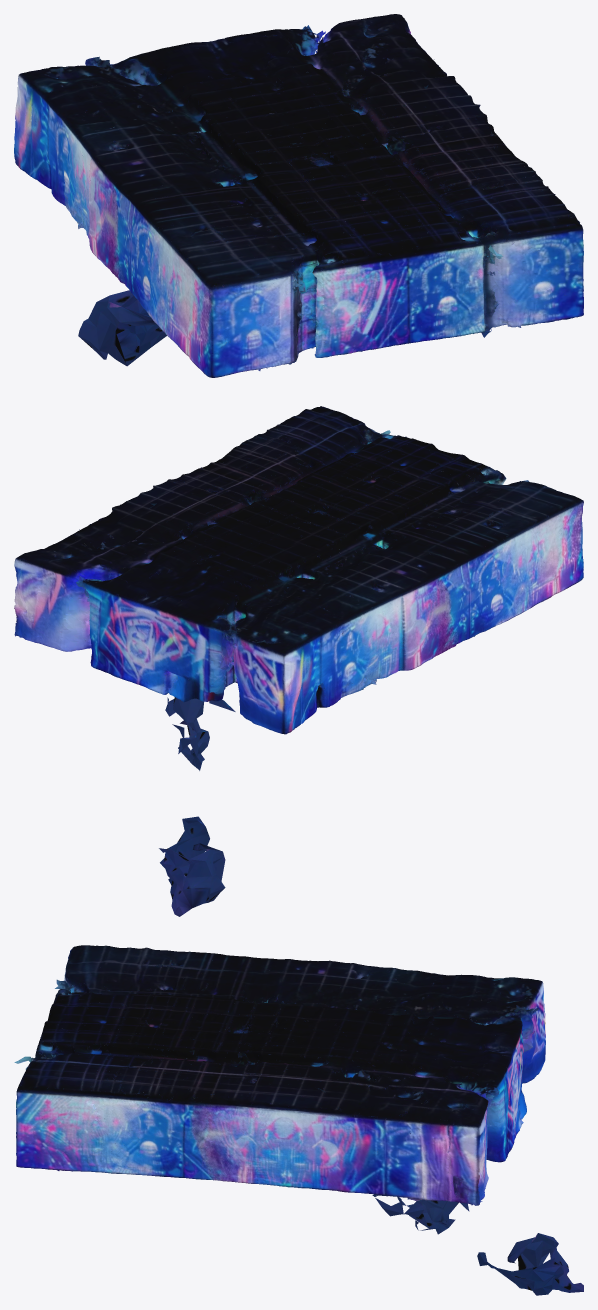
File: beeple_studios.glb
3 renders of one model, top to bottom at view 1: azimuth 30°, elevation 25°; view 2: azimuth 150°, elevation 25°; view 3: azimuth 270°, elevation 25°, orthographic. The views are drawn at different scales.
Parts seen in each view (by area): view 1: decimated_mesh; view 2: decimated_mesh; view 3: decimated_mesh.
Part boxes in pixels (<box>): decimated_mesh: <box>14,14,583,377</box>; decimated_mesh: <box>14,406,583,916</box>; decimated_mesh: <box>14,945,583,1295</box>.
Bounding box in the file's own units: 8.53 × 6.21 × 11.32.
Materials: 1 (1 with a texture image).
